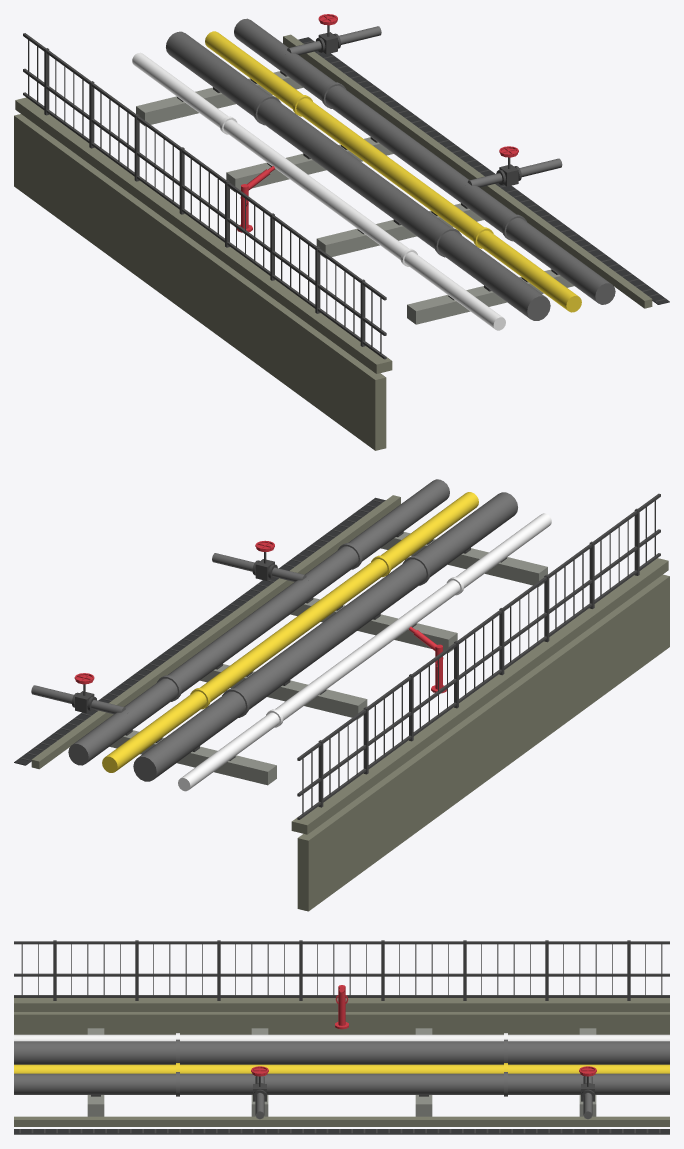
Rendered from platform_wall_close.fbx.
The picture shows the model from 3 angles, top to bottom: view 1: azimuth 30°, elevation 25°; view 2: azimuth 150°, elevation 25°; view 3: azimuth 270°, elevation 25°; orthographic projection. The views are drawn at different scales.
Visible parts, largest first — view 1: p465_platform_wall_close; view 2: p465_platform_wall_close; view 3: p465_platform_wall_close.
Part boxes in pixels (left/top/right/bottom): p465_platform_wall_close: left=14, top=14, right=669, bottom=450; p465_platform_wall_close: left=14, top=479, right=669, bottom=911; p465_platform_wall_close: left=14, top=940, right=669, bottom=1134.
Bounding box in the file's own units: 8.18 × 3.7 × 16.
